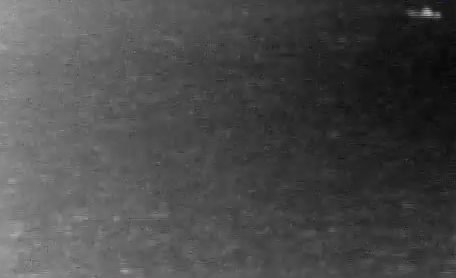Target: (407, 7, 440, 18)
